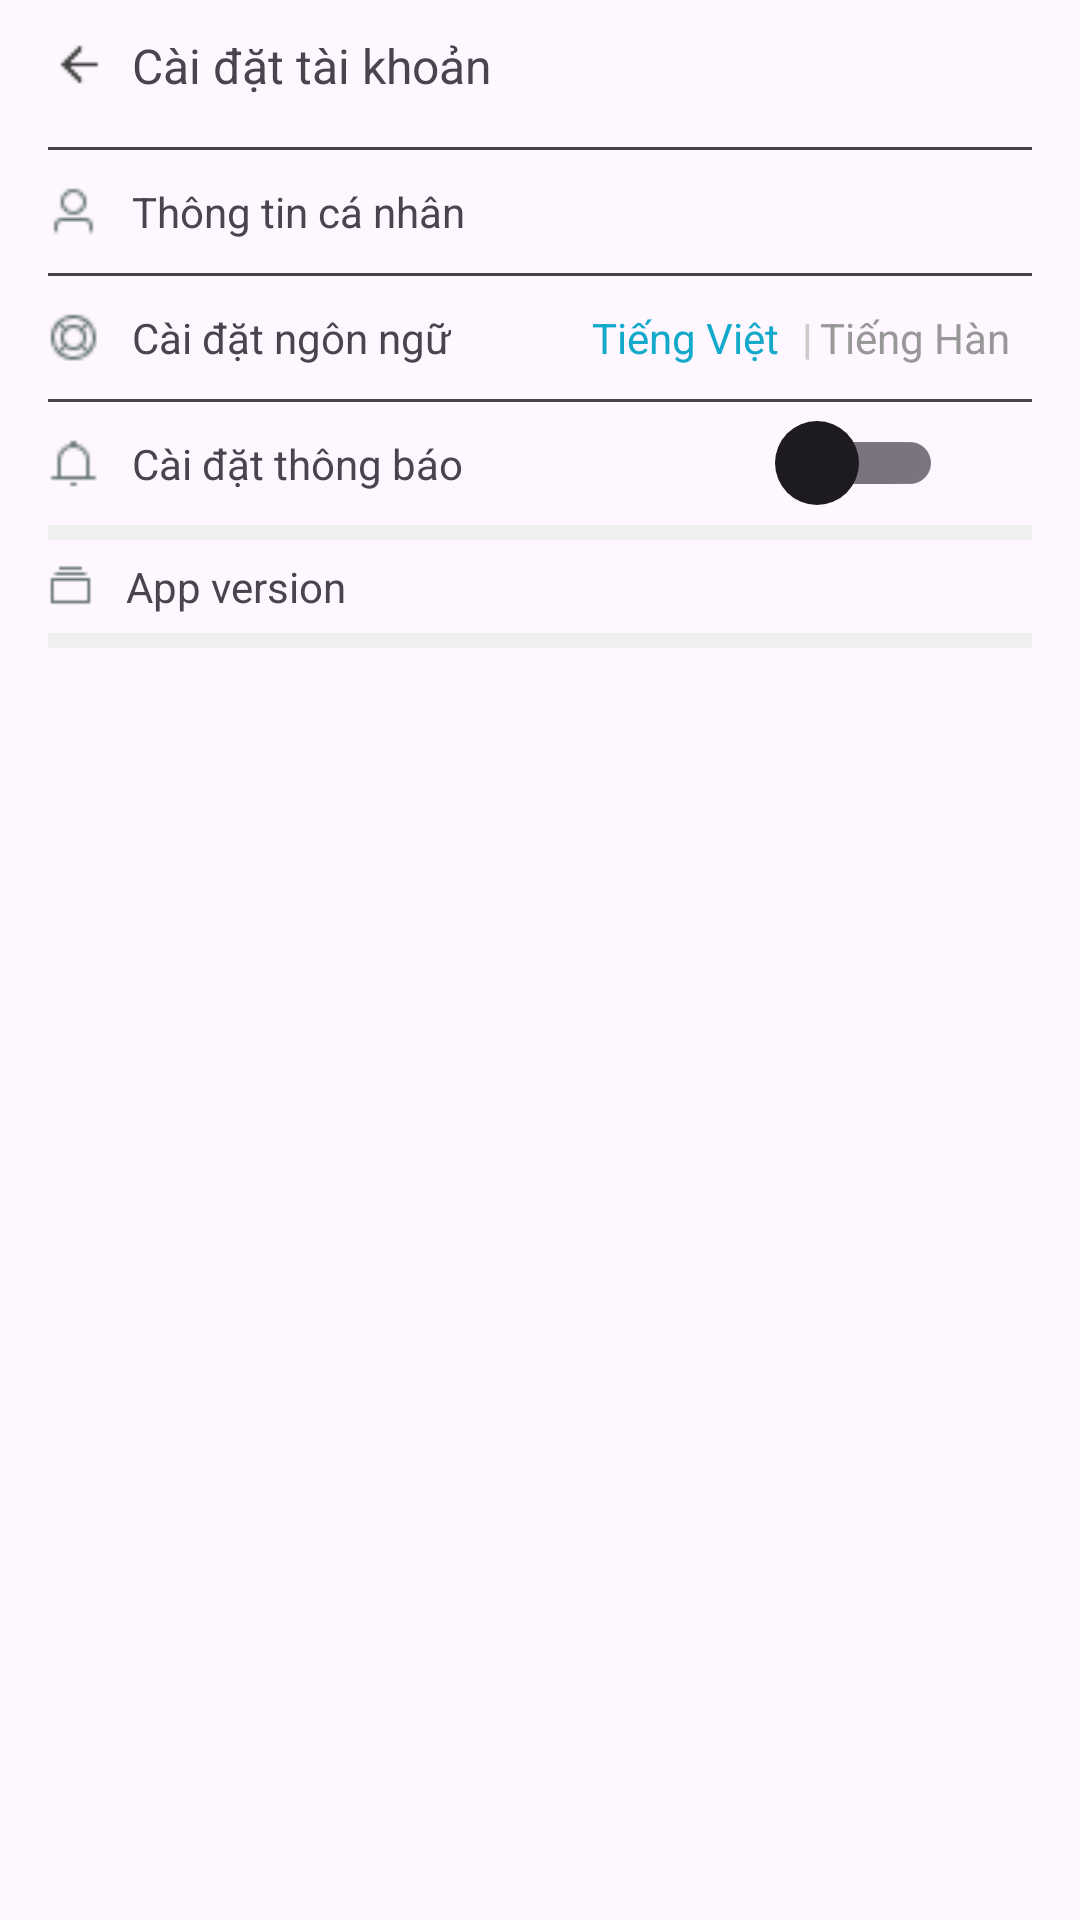

Icons on this 1080px x 1920px Android screen, each with its box as (x1, y1, x2, y2):
back: (60, 45, 99, 84)
notice: (50, 440, 97, 487)
user: (53, 188, 94, 234)
